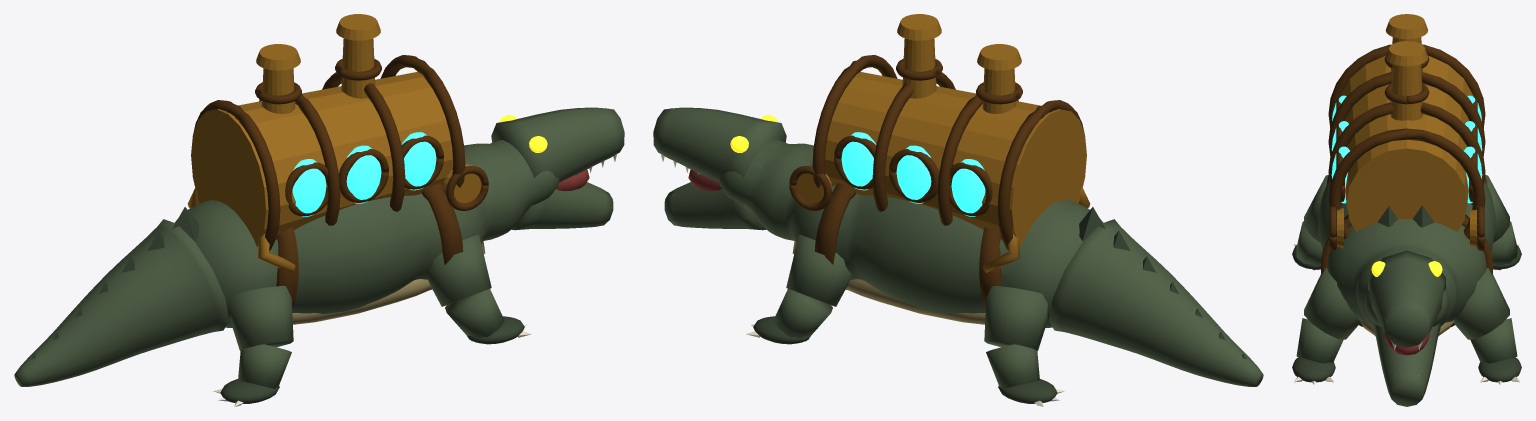
File: croc.glb
3 renders of one model, left to right at view 1: azimuth 30°, elevation 25°; view 2: azimuth 150°, elevation 25°; view 3: azimuth 270°, elevation 25°, orthographic. The views are drawn at different scales.
Parts seen in each view (by area): view 1: Body, Drum, Tail_Mesh, Jaw_Upper, Leg_HL_Upper, Jaw_Lower, Leg_FL_Upper, Drum_Band0, Drum_Band3, Leg_FL_Lower, Drum_Band2, Leg_HL_Lower (+19 smaller); view 2: Body, Drum, Tail_Mesh, Jaw_Upper, Leg_HR_Upper, Jaw_Lower, Leg_FR_Upper, Drum_Band0, Drum_Band3, Leg_FR_Lower, Drum_Band2, Leg_HR_Lower (+19 smaller); view 3: Drum, Body, Jaw_Upper, Drum_Band3, Jaw_Lower, Leg_FR_Upper, Leg_FL_Upper, Drum_Band1, Drum_Band2, Drum_Band0, Stack_1, Leg_FL_Lower (+21 smaller).
Part boxes in pixels (x1,y1,x2,y2): Body: [175, 140, 559, 327]; Drum: [191, 71, 452, 246]; Tail_Mesh: [14, 219, 228, 386]; Jaw_Upper: [491, 107, 624, 182]; Leg_HL_Upper: [230, 285, 293, 351]; Jaw_Lower: [511, 182, 613, 230]; Leg_FL_Upper: [426, 234, 491, 306]; Drum_Band0: [193, 100, 280, 250]; Drum_Band3: [380, 55, 465, 187]; Leg_FL_Lower: [445, 288, 504, 341]; Drum_Band2: [322, 72, 405, 211]; Leg_HL_Lower: [238, 344, 291, 388]; Body: [718, 140, 1103, 327]; Drum: [825, 71, 1086, 246]; Tail_Mesh: [1049, 219, 1263, 386]; Jaw_Upper: [653, 107, 786, 182]; Leg_HR_Upper: [984, 285, 1047, 351]; Jaw_Lower: [664, 182, 766, 230]; Leg_FR_Upper: [786, 234, 851, 306]; Drum_Band0: [997, 100, 1084, 250]; Drum_Band3: [812, 55, 897, 187]; Leg_FR_Lower: [773, 288, 832, 341]; Drum_Band2: [872, 72, 955, 211]; Leg_HR_Lower: [986, 344, 1039, 388]; Drum: [1340, 55, 1473, 231]; Body: [1318, 180, 1495, 326]; Jaw_Upper: [1368, 250, 1445, 347]; Drum_Band3: [1328, 128, 1485, 239]; Jaw_Lower: [1373, 322, 1440, 406]; Leg_FR_Upper: [1453, 268, 1509, 339]; Leg_FL_Upper: [1304, 268, 1360, 339]; Drum_Band1: [1328, 72, 1485, 155]; Drum_Band2: [1328, 102, 1485, 205]; Drum_Band0: [1328, 44, 1485, 127]; Stack_1: [1390, 64, 1423, 120]; Leg_FL_Lower: [1296, 318, 1343, 363].
Bounding box in the file's own units: 2.1 × 1.02 × 0.7392.
